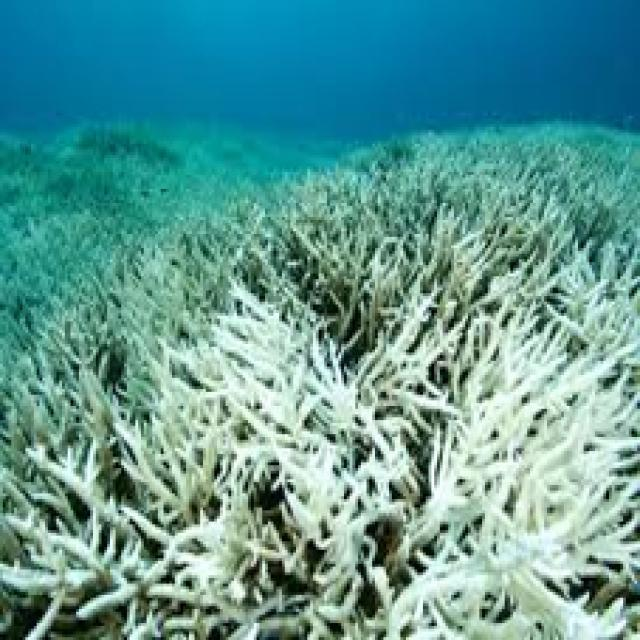Bleached: (1, 267, 636, 640), (394, 494, 635, 640), (436, 317, 602, 515), (180, 299, 364, 448), (86, 483, 254, 638), (12, 445, 102, 617), (102, 381, 237, 495), (273, 430, 376, 574), (296, 329, 401, 443), (409, 212, 476, 306), (498, 236, 622, 280)
